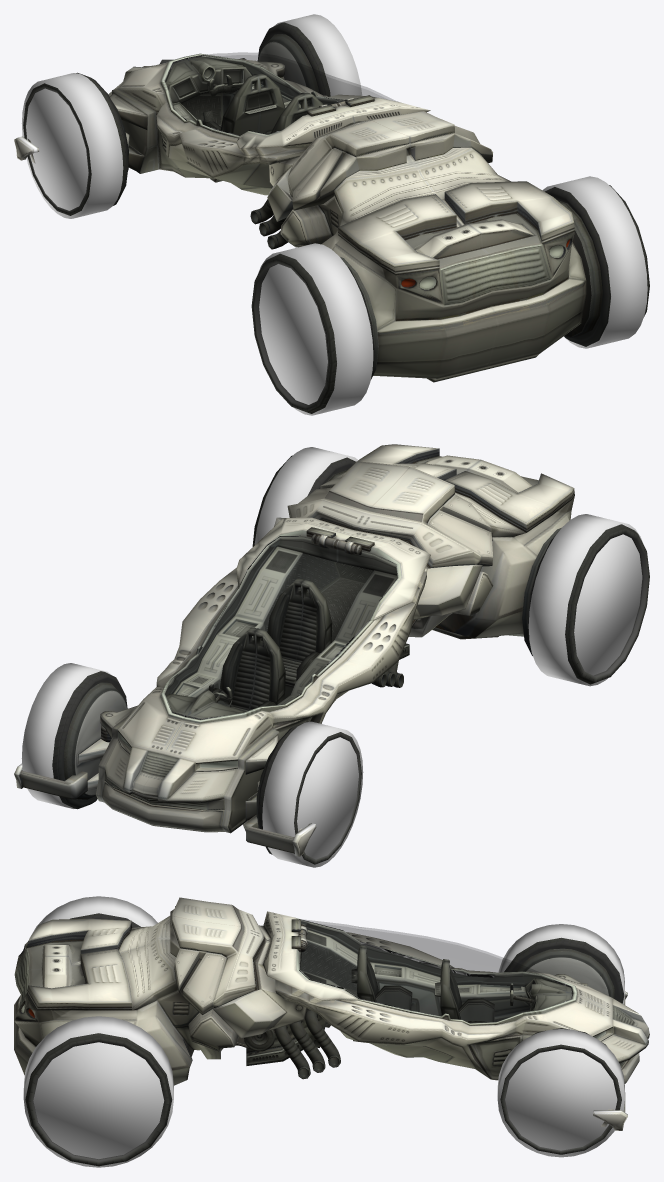
The picture shows the model from 3 angles, top to bottom: view 1: azimuth 30°, elevation 25°; view 2: azimuth 150°, elevation 25°; view 3: azimuth 270°, elevation 25°; orthographic projection. The views are drawn at different scales.
Parts seen in each view (by area): view 1: Car_Mesh, Back_Wheel_Force_1_L, Front_Wheel_Force_1_L, Back_Wheel_Force_1_R, Back_Wheel_Mesh_1_L, Car_Glas_Mesh, Front_Wheel_Force_1_R, Back_Wheel_Mesh_1_R, Back_Suspension_R, Front_Wheel_Mesh_2_L, Front_Wheel_Mesh_1_R, Front_Steering_Mesh_2_R (+1 smaller); view 2: Car_Mesh, Back_Wheel_Force_1_L, Front_Wheel_Force_1_L, Front_Wheel_Mesh_1_R, Front_Wheel_Force_1_R, Back_Wheel_Mesh_1_L, Back_Wheel_Force_1_R, Front_Steering_Mesh_2_R, Front_Wheel_Mesh_2_L, Front_Steering_Mesh_1_L, Car_Glas_Mesh, Back_Wheel_Mesh_1_R (+1 smaller); view 3: Car_Mesh, Back_Wheel_Force_1_R, Front_Wheel_Force_1_R, Car_Glas_Mesh, Back_Wheel_Mesh_1_R, Front_Steering_Mesh_1_L, Front_Wheel_Force_1_L, Back_Wheel_Force_1_L, Front_Steering_Mesh_2_R, Front_Wheel_Mesh_2_L, Front_Wheel_Mesh_1_R.
Boxes of the visible parts, x1,y1,x2,y2 form: Car_Mesh: [108, 53, 586, 382]; Back_Wheel_Force_1_L: [258, 243, 373, 415]; Front_Wheel_Force_1_L: [21, 73, 123, 218]; Back_Wheel_Force_1_R: [542, 176, 647, 348]; Back_Wheel_Mesh_1_L: [251, 253, 374, 413]; Car_Glas_Mesh: [168, 52, 394, 135]; Front_Wheel_Force_1_R: [273, 14, 362, 96]; Back_Wheel_Mesh_1_R: [545, 185, 649, 346]; Back_Suspension_R: [557, 200, 602, 337]; Front_Wheel_Mesh_2_L: [23, 72, 128, 215]; Front_Wheel_Mesh_1_R: [258, 34, 319, 92]; Front_Steering_Mesh_2_R: [257, 22, 330, 96]; Car_Mesh: [96, 444, 574, 833]; Back_Wheel_Force_1_L: [528, 514, 642, 686]; Front_Wheel_Force_1_L: [262, 721, 363, 867]; Front_Wheel_Mesh_1_R: [14, 682, 127, 799]; Front_Wheel_Force_1_R: [21, 663, 111, 808]; Back_Wheel_Mesh_1_L: [527, 524, 649, 684]; Back_Wheel_Force_1_R: [254, 447, 358, 544]; Front_Steering_Mesh_2_R: [52, 671, 127, 809]; Front_Wheel_Mesh_2_L: [256, 721, 361, 864]; Front_Steering_Mesh_1_L: [243, 749, 316, 856]; Car_Glas_Mesh: [167, 535, 397, 719]; Back_Wheel_Mesh_1_R: [252, 455, 355, 546]; Car_Mesh: [14, 897, 649, 1085]; Back_Wheel_Force_1_R: [23, 1016, 173, 1167]; Front_Wheel_Force_1_R: [497, 1029, 624, 1157]; Car_Glas_Mesh: [299, 919, 572, 1019]; Back_Wheel_Mesh_1_R: [25, 1033, 172, 1166]; Front_Steering_Mesh_1_L: [515, 948, 627, 1004]; Front_Wheel_Force_1_L: [498, 924, 624, 1004]; Back_Wheel_Force_1_L: [29, 896, 157, 938]; Front_Steering_Mesh_2_R: [500, 1028, 621, 1154]; Front_Wheel_Mesh_2_L: [504, 937, 624, 1003]; Front_Wheel_Mesh_1_R: [593, 1092, 627, 1130].
Bounding box in the file's own units: 365 × 224 × 702.
